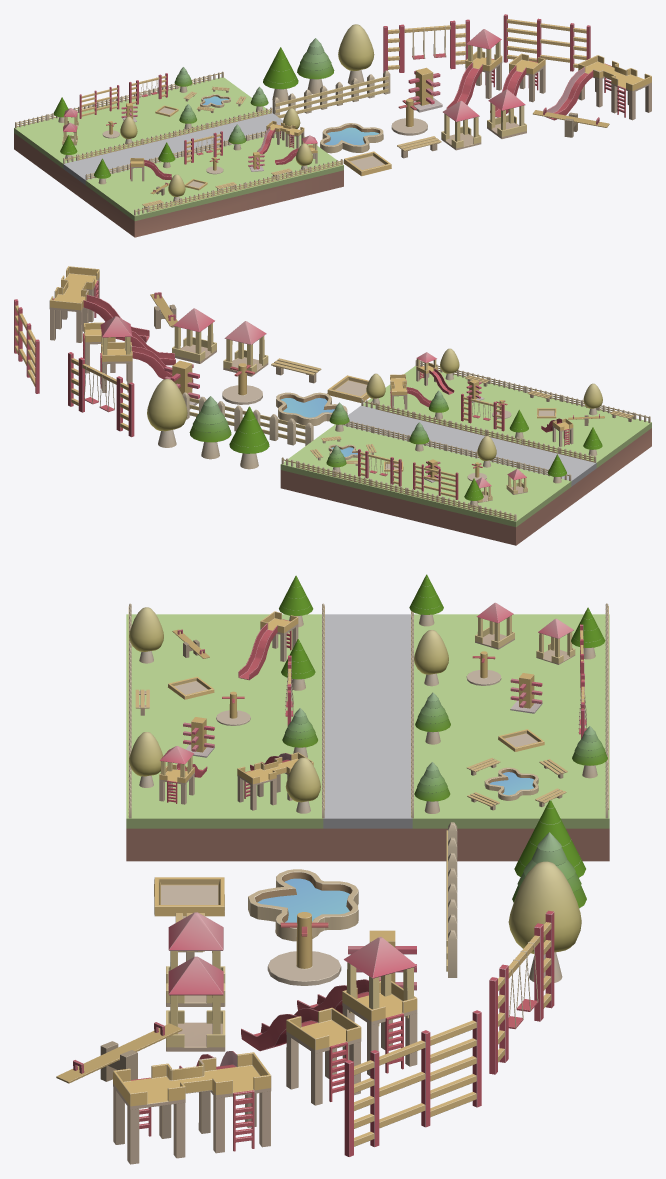
The model's file is playground.glb.
3 renders of one model, top to bottom at view 1: azimuth 30°, elevation 25°; view 2: azimuth 150°, elevation 25°; view 3: azimuth 270°, elevation 25°, orthographic. The views are drawn at different scales.
Parts seen in each view (by area): view 1: Cube.035, Cube.014, Cube.001, Cube.019, Cube.024, Cube.020, Mball.001, Sphere.001, Cube.017, Cube.015, Cube.016, Cone.003 (+6 smaller); view 2: Cube.035, Cube.014, Cube.020, Cube.001, Sphere.001, Cube.024, Cube.015, Mball.001, Cube.016, Cone.003, Cone.002, Cube.019 (+6 smaller); view 3: Cube.035, Cube.014, Cube.019, Cube.001, Cube.017, Mball.001, Cube.020, Sphere.001, Cube.015, Circle.001, Cube.016, sandbox.001 (+4 smaller).
Part boxes in pixels (x1,y1,x2,y2): Cube.035: (14,67,343,237); Cube.014: (546,55,651,120); Cube.001: (446,29,502,108); Cube.019: (503,14,590,71); Cube.024: (272,70,390,118); Cube.020: (383,19,469,72); Mball.001: (320,123,383,153); Sphere.001: (338,24,374,84); Cube.017: (490,53,545,117); Cube.015: (487,89,526,138); Cube.016: (441,100,481,150); Cone.003: (297,38,334,94); Cube.035: (280,348,651,545); Cube.014: (49,266,149,342); Cube.020: (68,352,134,437); Cube.001: (100,316,193,392); Sphere.001: (147,379,187,447); Cube.024: (182,392,313,445); Cube.015: (172,308,216,363); Mball.001: (276,392,347,425); Cube.016: (223,321,268,376); Cone.003: (189,396,231,459); Cone.002: (229,406,269,469); Cube.019: (14,299,39,393); Cube.035: (126,574,609,861); Cube.014: (113,1051,271,1164); Cube.019: (344,1010,481,1156); Cube.001: (297,937,417,1075); Cube.017: (241,1007,361,1105); Mball.001: (248,869,358,941); Cube.020: (489,910,554,1074); Sphere.001: (508,861,581,982); Cube.015: (166,956,225,1051); Circle.001: (267,912,341,985); Cube.016: (166,912,225,1006); sandbox.001: (154,877,224,916).
Bounding box in the file's own units: 68.81 × 7.86 × 31.81.
